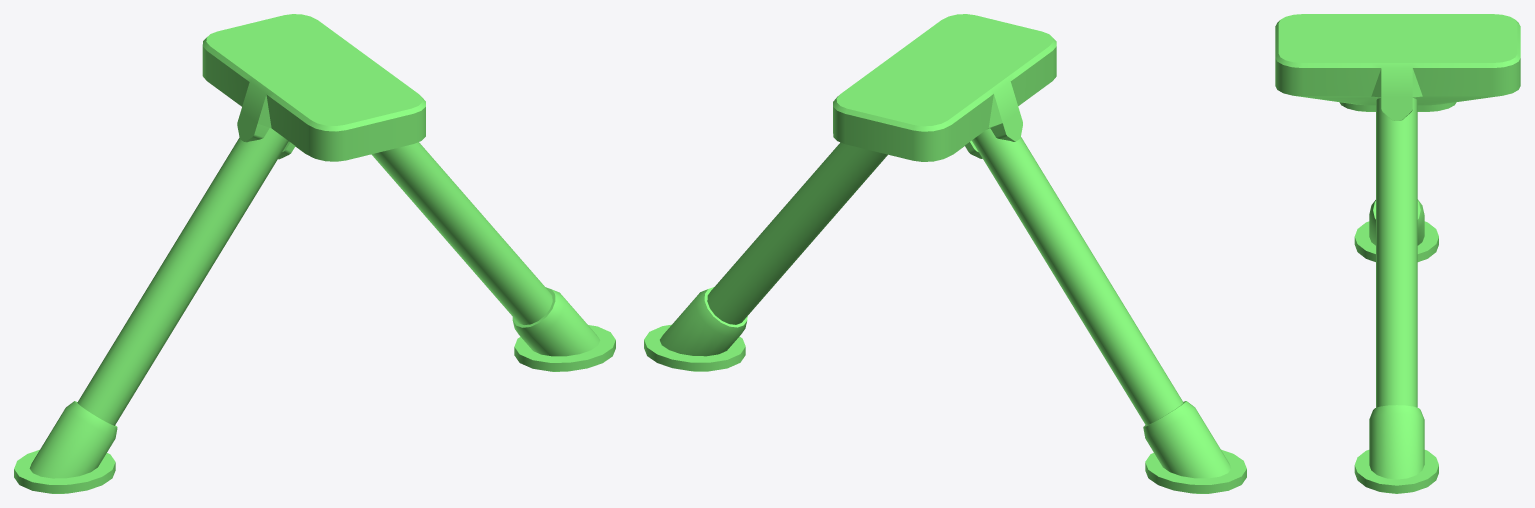
The model's file is part_accessory_02.fbx.
3 views of the same model, side by side, from view 1: azimuth 30°, elevation 25°; view 2: azimuth 150°, elevation 25°; view 3: azimuth 270°, elevation 25° (orthographic). The views are drawn at different scales.
Visible parts, largest first — view 1: part_accessory_02; view 2: part_accessory_02; view 3: part_accessory_02.
Part boxes in pixels (box(x1,y1,x2,y2)): part_accessory_02: box(14, 14, 615, 493); part_accessory_02: box(644, 14, 1246, 493); part_accessory_02: box(1275, 14, 1520, 493).
Size of the model in its own units: 44.52 by 25.13 by 17.12.
